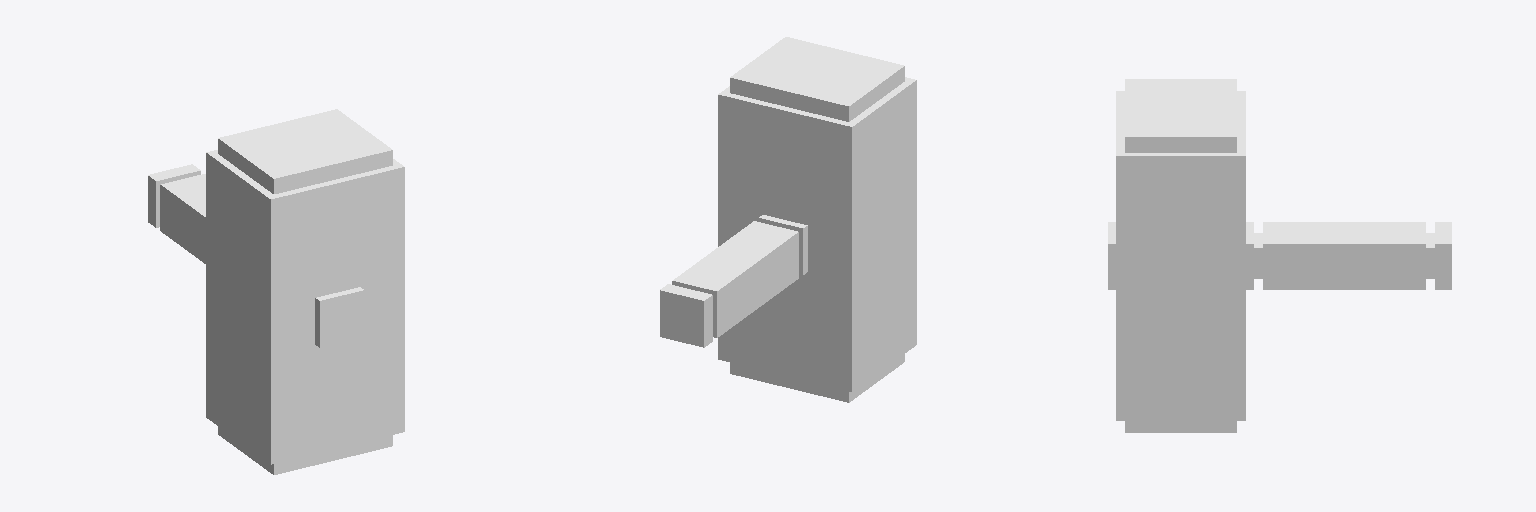
Rendered from brave_hammer.obj.
3 views of the same model, side by side, from view 1: azimuth 30°, elevation 25°; view 2: azimuth 150°, elevation 25°; view 3: azimuth 270°, elevation 25° (orthographic).
Visible parts, largest first — view 1: brave_hammer; view 2: brave_hammer; view 3: brave_hammer.
Part boxes in pixels (x1,y1,x2,y2): brave_hammer: (148,109,404,474); brave_hammer: (660,37,916,402); brave_hammer: (1108,79,1451,432).
Bounding box in the file's own units: 18 × 38 × 40.